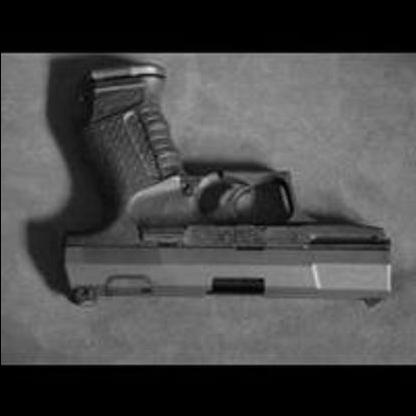weapon: (56, 60, 399, 310)
